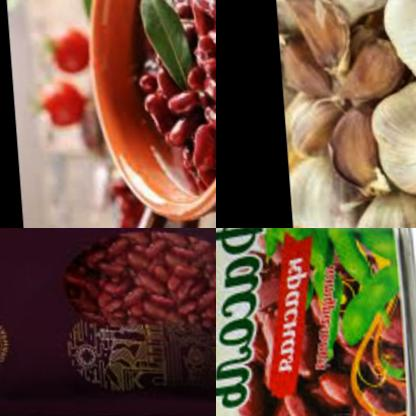fasol: (216, 228, 404, 416), (108, 0, 216, 189), (59, 228, 216, 329)
garlic: (354, 75, 416, 204), (313, 99, 383, 197), (271, 0, 353, 75), (321, 32, 397, 111), (281, 152, 355, 228), (276, 58, 332, 154), (374, 0, 416, 93), (335, 181, 416, 228)
tomato: (22, 74, 87, 137), (33, 21, 90, 83)
